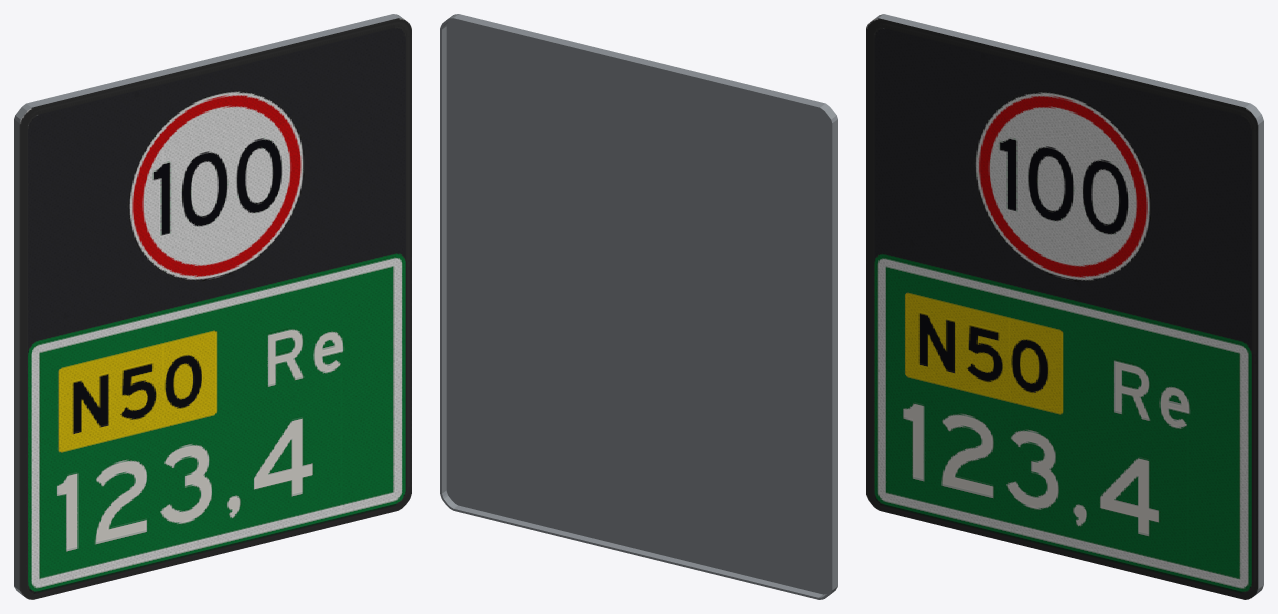
The picture shows the model from 3 angles, left to right: view 1: azimuth 30°, elevation 25°; view 2: azimuth 150°, elevation 25°; view 3: azimuth 330°, elevation 25°; orthographic projection.
Parts seen in each view (by area): view 1: cat_f7c979571997bd12; view 2: cat_f7c979571997bd12; view 3: cat_f7c979571997bd12.
Part boxes in pixels (<box>): cat_f7c979571997bd12: <box>14,14,411,599</box>; cat_f7c979571997bd12: <box>440,14,837,599</box>; cat_f7c979571997bd12: <box>866,14,1263,599</box>.
Size of the model in its own units: 0.6 by 0.015 by 0.72.
Materials: 2 (1 with a texture image).
